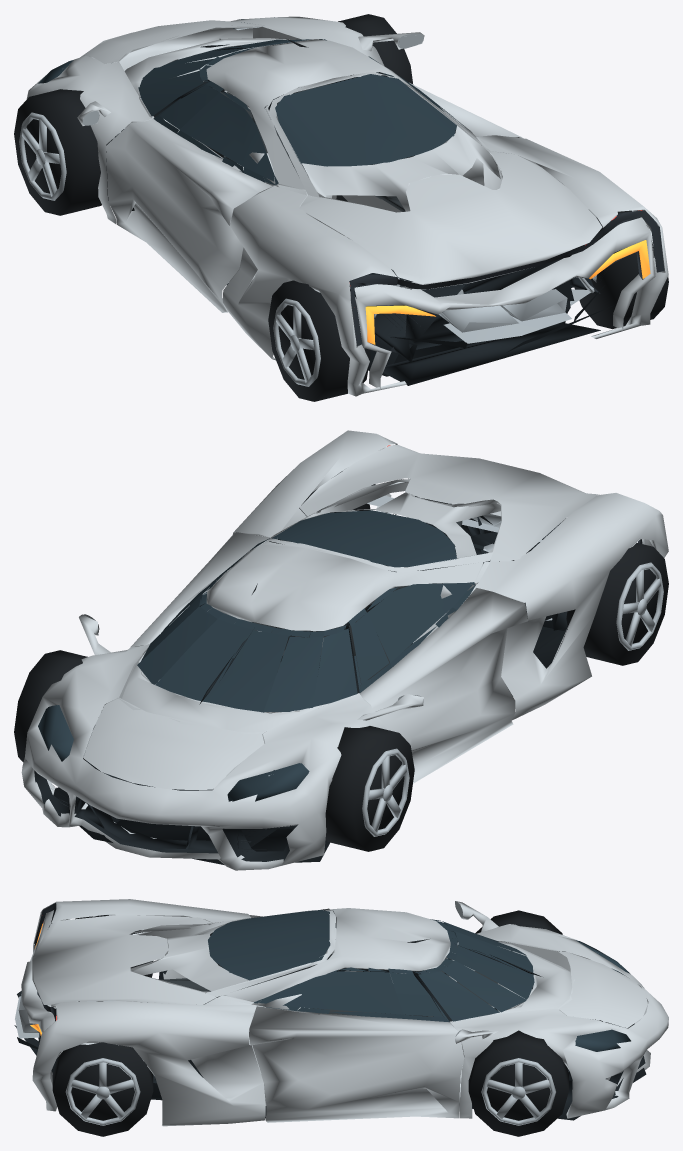
The model's file is sportscar-race.glb.
The picture shows the model from 3 angles, top to bottom: view 1: azimuth 30°, elevation 25°; view 2: azimuth 150°, elevation 25°; view 3: azimuth 270°, elevation 25°; orthographic projection. The views are drawn at different scales.
Visible parts, largest first — view 1: Paint, Glass, Rubber, Carbon, Metal, Trim, Signal, Interior; view 2: Paint, Glass, Rubber, Carbon, Metal; view 3: Paint, Glass, Rubber, Metal, Carbon, Interior, Trim.
Part boxes in pixels (box(x1,y1,x2,y2)): Paint: box(26, 16, 668, 396); Glass: box(38, 17, 471, 185); Rubber: box(14, 14, 668, 401); Carbon: box(108, 39, 639, 385); Metal: box(19, 23, 596, 386); Trim: box(350, 210, 664, 352); Signal: box(365, 240, 650, 344); Interior: box(171, 39, 455, 211); Paint: box(21, 430, 668, 870); Glass: box(38, 510, 475, 801); Rubber: box(14, 471, 668, 851); Carbon: box(34, 496, 567, 865); Metal: box(83, 495, 663, 836); Paint: box(21, 899, 668, 1126); Glass: box(208, 910, 630, 1051); Rubber: box(52, 910, 568, 1136); Metal: box(15, 901, 598, 1125); Carbon: box(14, 908, 646, 1120); Interior: box(160, 917, 512, 1017); Trim: box(34, 903, 619, 1083).
Bounding box in the file's own units: 2.15 × 1.02 × 4.29.
